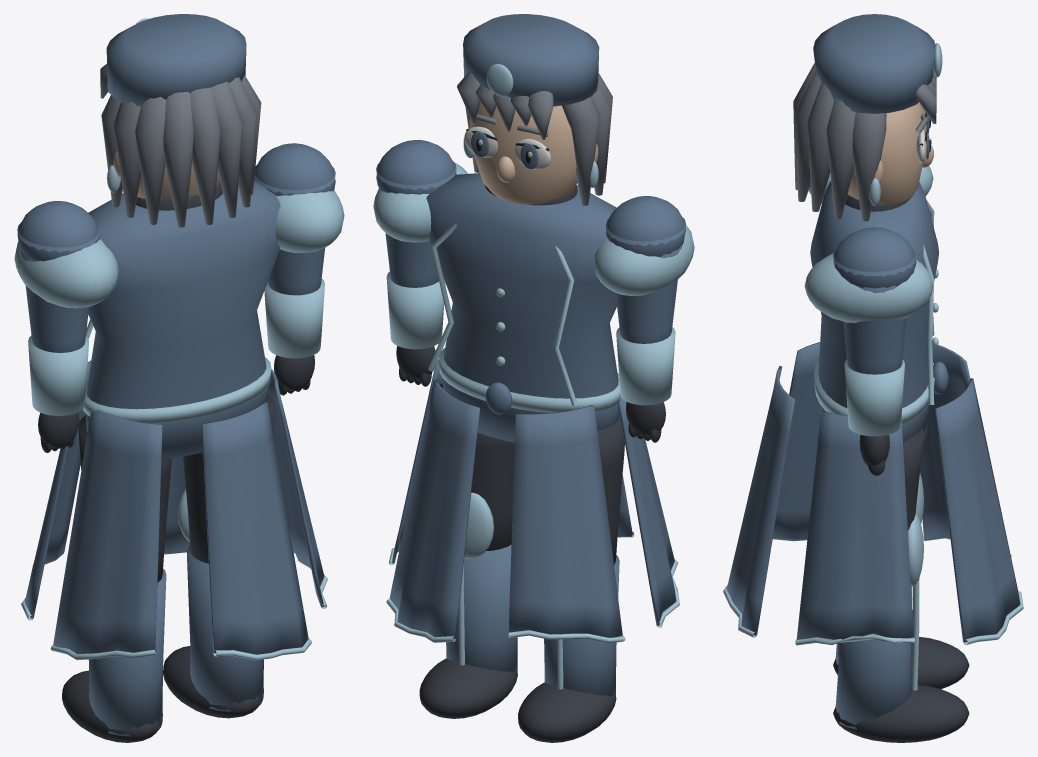
The model's file is hero-classic.glb.
The picture shows the model from 3 angles, left to right: view 1: azimuth 30°, elevation 25°; view 2: azimuth 150°, elevation 25°; view 3: azimuth 270°, elevation 25°; orthographic projection. The views are drawn at different scales.
Parts seen in each view (by area): view 1: torso_Painted character, head_Painted character, armL_Painted character, armR_Painted character, legR_Painted character, legL_Painted character; view 2: torso_Painted character, head_Painted character, legR_Painted character, armL_Painted character, legL_Painted character, armR_Painted character; view 3: torso_Painted character, head_Painted character, legR_Painted character, armR_Painted character, legL_Painted character.
Boxes of the visible parts, bbox=[...] form: torso_Painted character: bbox=[14, 180, 344, 660]; head_Painted character: bbox=[100, 14, 261, 227]; armL_Painted character: bbox=[17, 201, 99, 452]; armR_Painted character: bbox=[254, 143, 335, 395]; legR_Painted character: bbox=[163, 393, 274, 718]; legL_Painted character: bbox=[62, 415, 171, 742]; torso_Painted character: bbox=[373, 162, 694, 643]; head_Painted character: bbox=[457, 14, 612, 205]; legR_Painted character: bbox=[419, 383, 517, 718]; armL_Painted character: bbox=[605, 196, 685, 442]; legL_Painted character: bbox=[518, 411, 624, 742]; armR_Painted character: bbox=[376, 140, 456, 386]; torso_Painted character: bbox=[723, 166, 1023, 645]; head_Painted character: bbox=[793, 14, 942, 221]; legR_Painted character: bbox=[833, 427, 969, 742]; armR_Painted character: bbox=[833, 227, 916, 475]; legL_Painted character: bbox=[833, 473, 969, 689].
Bounding box in the file's own units: 0.91 × 1.97 × 0.7913.
